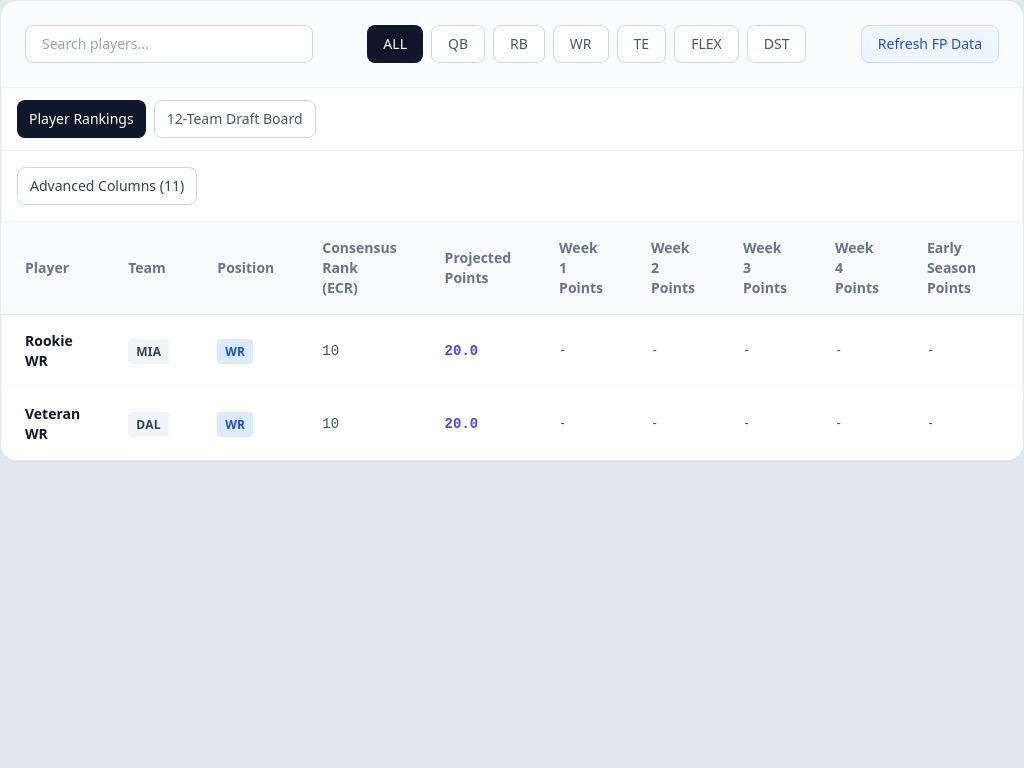
Scenario: DashboardClient › adds rookie draft-score boost and shows Rookie Upside badge on draft recommendations
Click the tab with test id "tab-draft-board": click(235, 119) [154,100,316,138]
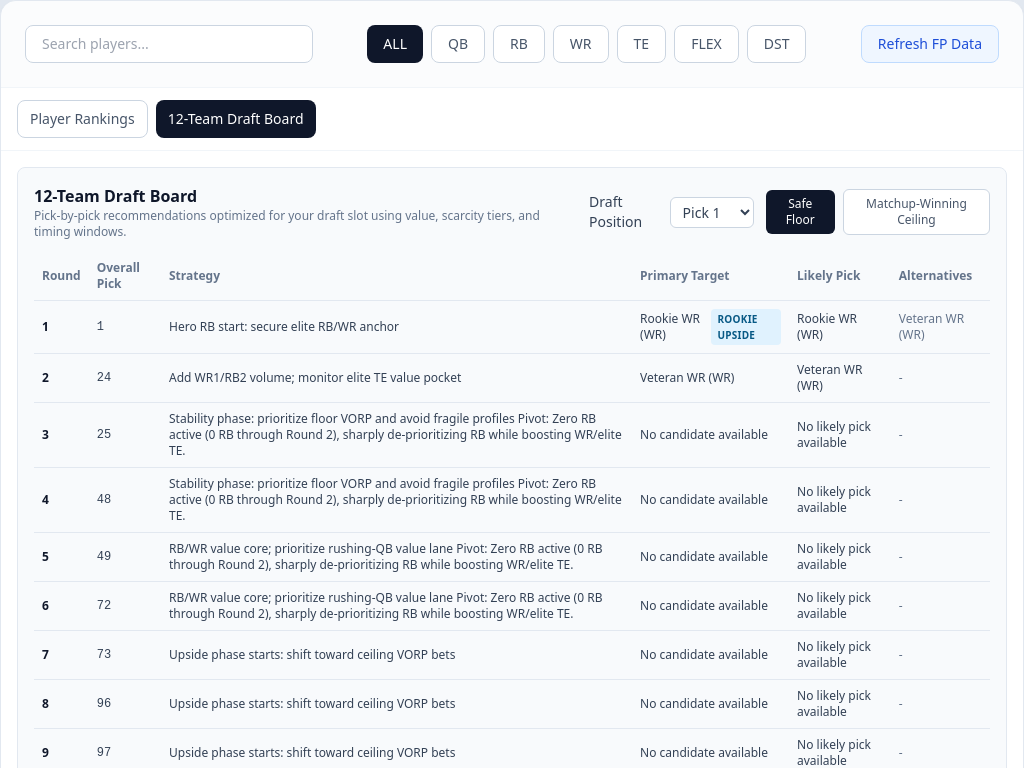
Expected: the cell with test id "draft-board-primary-1" shows "Rookie WR (WR)", [640,310,700,343]
Expected: the text with test id "draft-board-rookie-badge-1" reads "Rookie Upside", [718,312,758,342]
